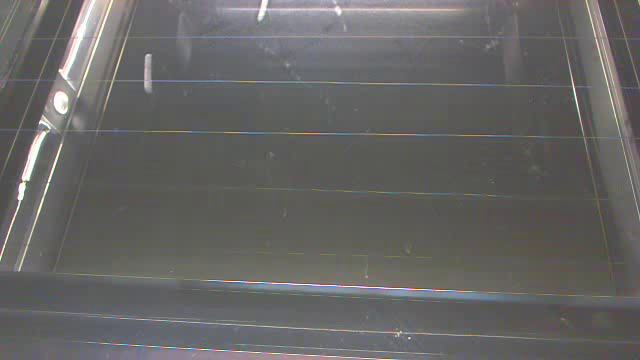Alfa: (143, 50, 155, 100), (251, 1, 270, 21)
